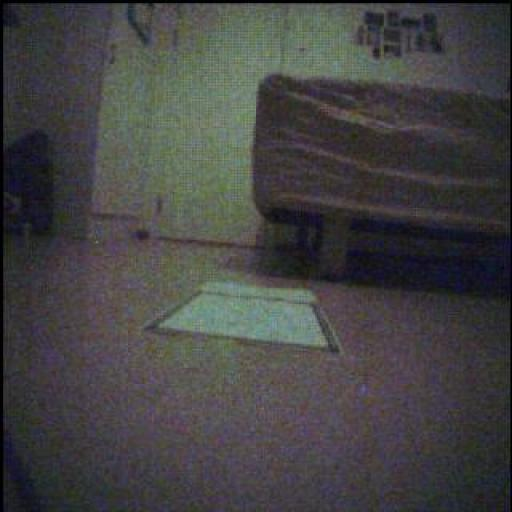pad: (147, 283, 342, 353)
